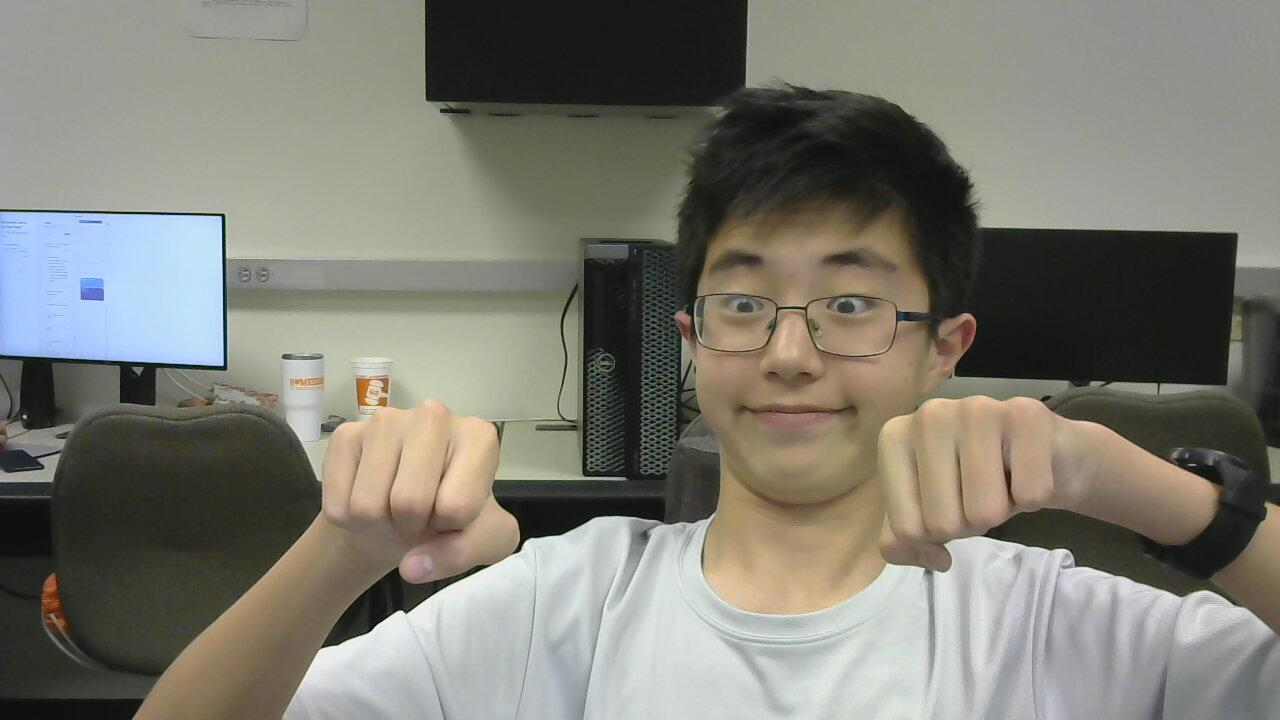fist: (316, 387, 534, 608), (863, 389, 1095, 578)
